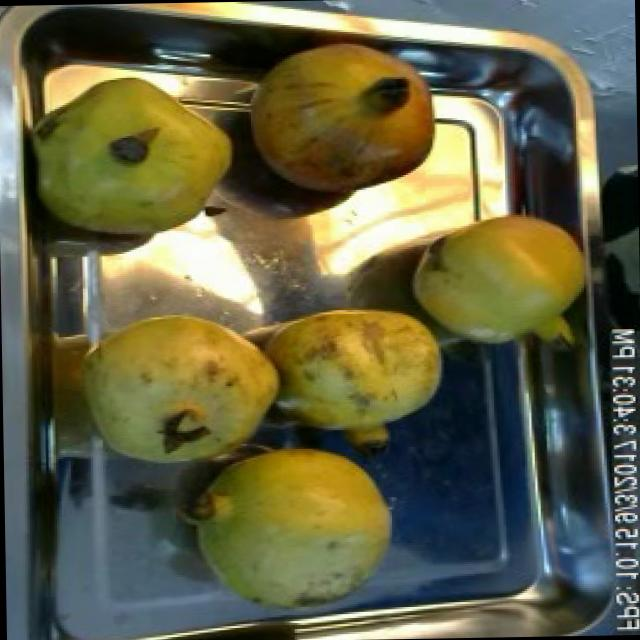fruit: (171, 430, 407, 620), (22, 59, 250, 253), (72, 298, 296, 478), (230, 29, 450, 208), (255, 296, 454, 445), (398, 202, 592, 352)
